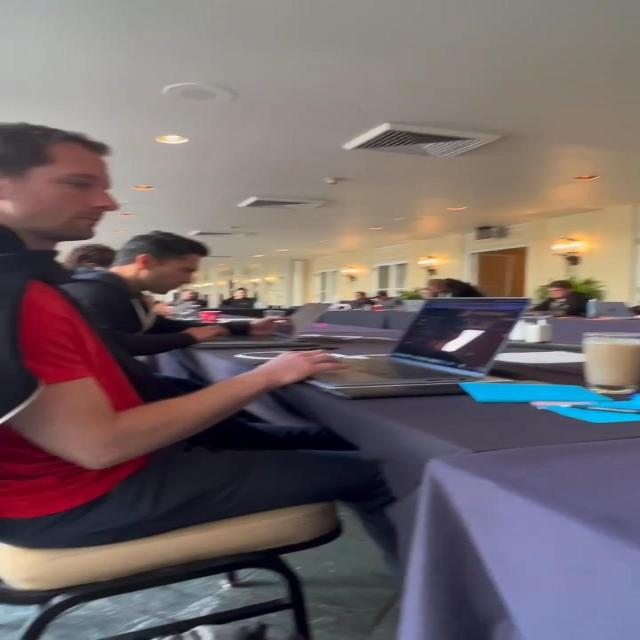NO-Mask: (18, 145, 120, 241), (144, 253, 201, 294), (548, 288, 567, 299), (236, 290, 248, 298), (422, 291, 434, 299), (430, 288, 444, 294), (186, 292, 197, 298), (354, 293, 364, 299), (377, 297, 385, 301)
